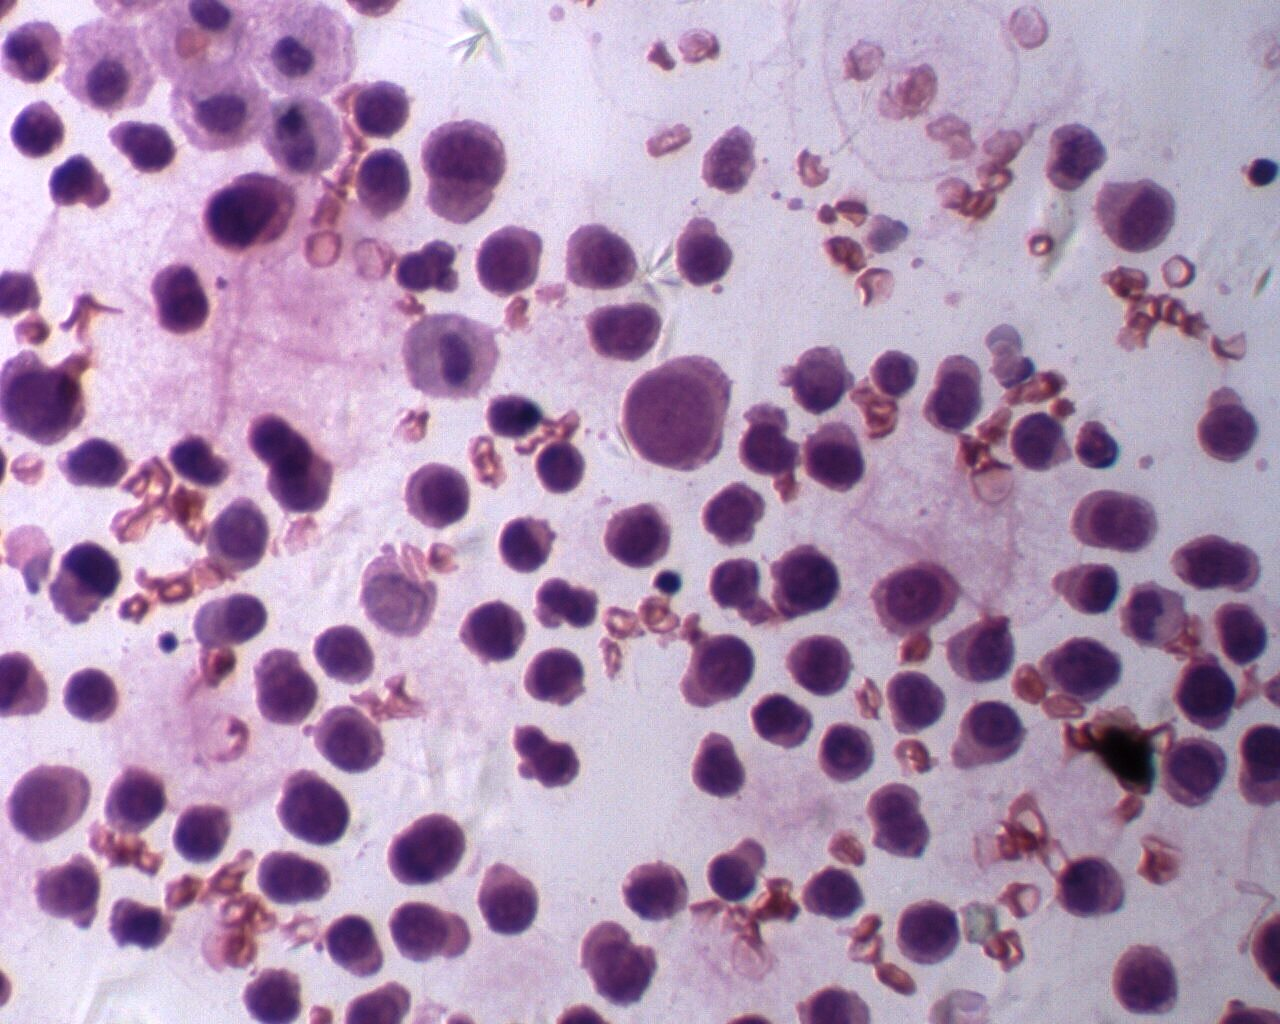ab: (197, 166, 302, 258), (869, 554, 968, 638), (1093, 170, 1184, 259), (1035, 626, 1131, 709), (5, 758, 89, 848), (197, 497, 273, 579), (562, 218, 639, 296), (787, 630, 863, 708), (469, 226, 548, 302), (772, 541, 842, 626), (312, 703, 389, 779), (1109, 939, 1185, 1016), (98, 762, 169, 842), (1160, 732, 1230, 813), (453, 596, 533, 666), (470, 863, 540, 942), (599, 501, 677, 571), (948, 616, 1018, 692), (309, 618, 377, 693), (799, 421, 865, 496), (1172, 656, 1239, 729), (1043, 118, 1103, 197), (406, 462, 474, 532), (885, 665, 950, 738), (347, 77, 418, 143), (1214, 598, 1275, 671), (59, 666, 127, 729), (815, 718, 880, 785), (521, 644, 591, 705), (897, 895, 965, 953)
lymph: (1241, 152, 1280, 193), (649, 563, 691, 602)
meso: (246, 1, 358, 96), (167, 56, 266, 152), (65, 22, 158, 112)
